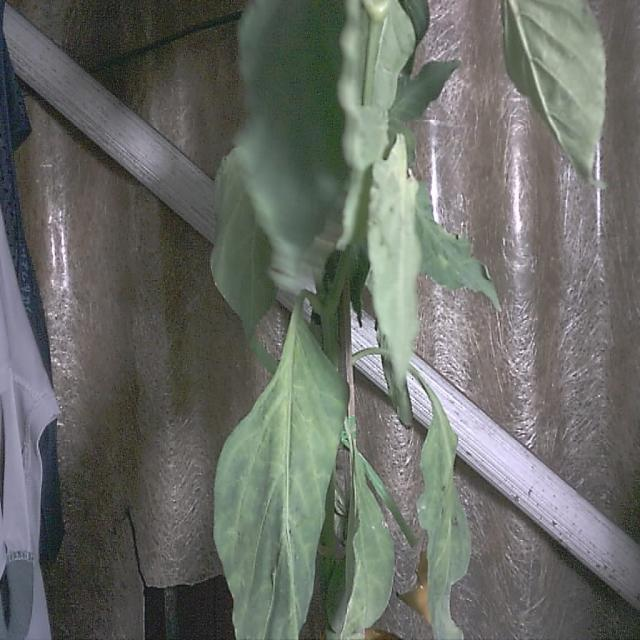Leaf: (211, 326, 350, 637), (417, 415, 473, 640)
